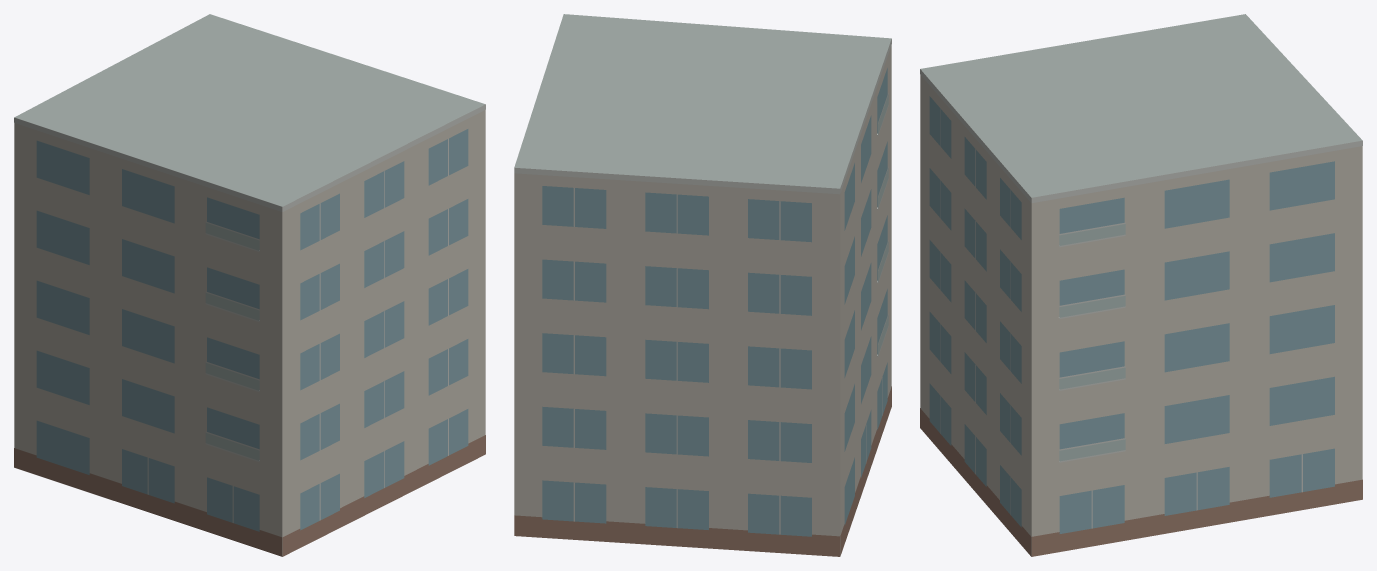
File: survey-upis-32891592.glb
The picture shows the model from 3 angles, left to right: view 1: azimuth 30°, elevation 25°; view 2: azimuth 150°, elevation 25°; view 3: azimuth 270°, elevation 25°; orthographic projection. The views are drawn at different scales.
Visible parts, largest first — view 1: survey-upis-32891592.tmp; view 2: survey-upis-32891592.tmp; view 3: survey-upis-32891592.tmp.
Part boxes in pixels (box(x1,y1,x2,y2)): survey-upis-32891592.tmp: box(14, 14, 485, 556); survey-upis-32891592.tmp: box(514, 14, 891, 556); survey-upis-32891592.tmp: box(920, 14, 1362, 556).
Size of the model in its own units: 17.63 by 16.05 by 17.94.
